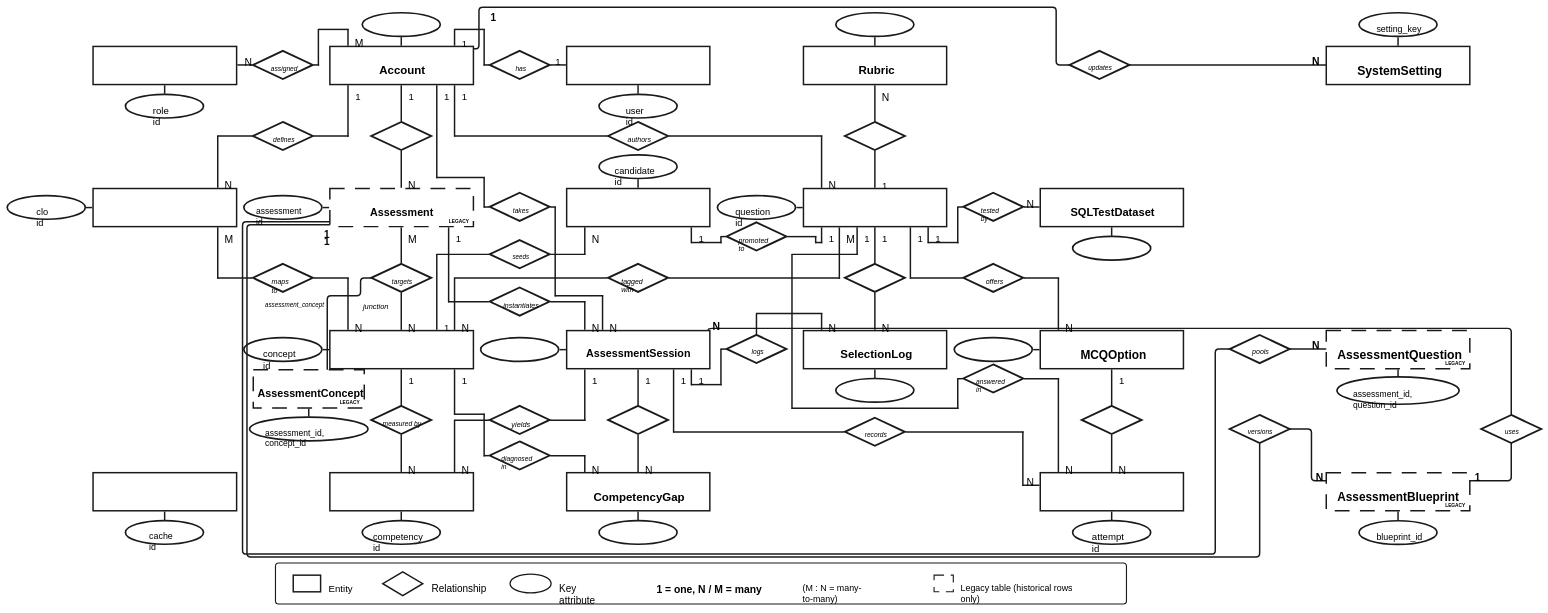
Image size: 1548x613. Some labels were removed from this diagram. The centre of each missing label's shape, as x and y in pixels:
"account id" belongs at (401,24).
"Attempt" belongs at (1111,491).
"chosen in" belongs at (875,278).
"Concept" belongs at (401,349).
"ConceptCompetency" belongs at (401,491).
"configures" belongs at (401,136).
"CourseLearningOutcome" belongs at (164,207).
"dataset id" belongs at (1111,248).
"flags" belongs at (638,420).
"gap id" belongs at (638,532).
"graded by" belongs at (875,136).
"key" belongs at (530,583).
"LLMCache" belongs at (164,491).
"log id" belongs at (875,390).
"option id" belongs at (993,349).
"Question" belongs at (875,207).
"QuestionCandidate" belongs at (638,207).
"Role" belongs at (164,65).
"rubric id" belongs at (875,24).
"selected in" belongs at (1111,420).
"session id" belongs at (519,349).
"UserProfile" belongs at (638,65).
